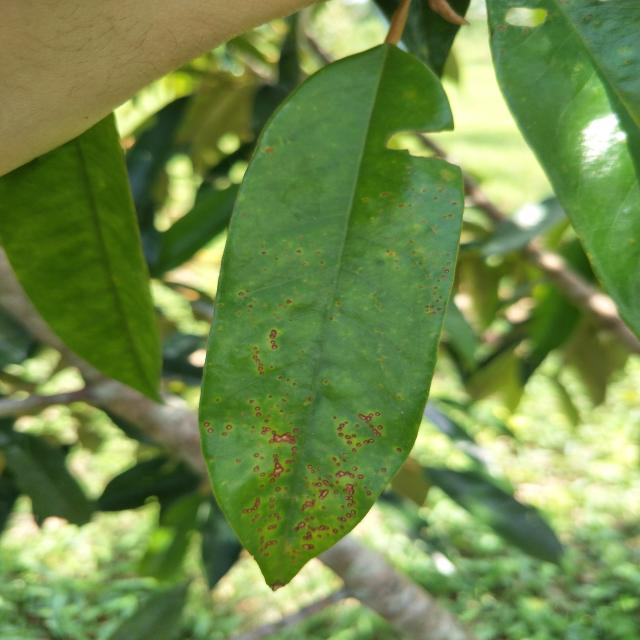Leaf Spot: (230, 284, 360, 536), (362, 411, 388, 446)
